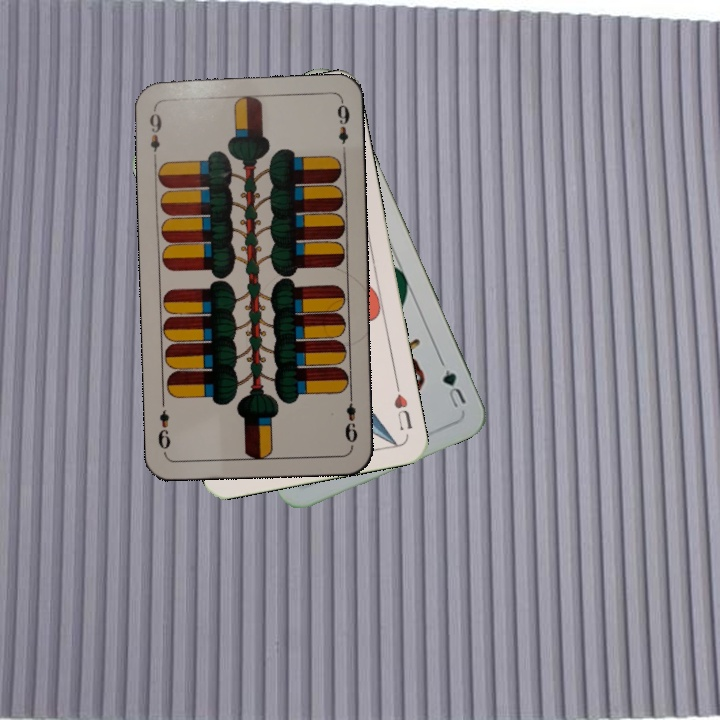E9: (145, 105, 164, 164), (340, 389, 360, 445)
GU: (438, 365, 469, 411)
HU: (390, 379, 415, 434)
